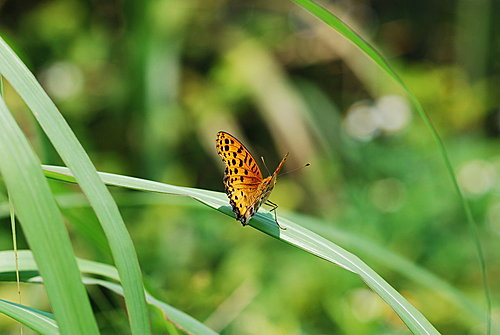Argyreus hyperbius: (210, 122, 308, 234)
butterfly: (212, 124, 310, 236)
